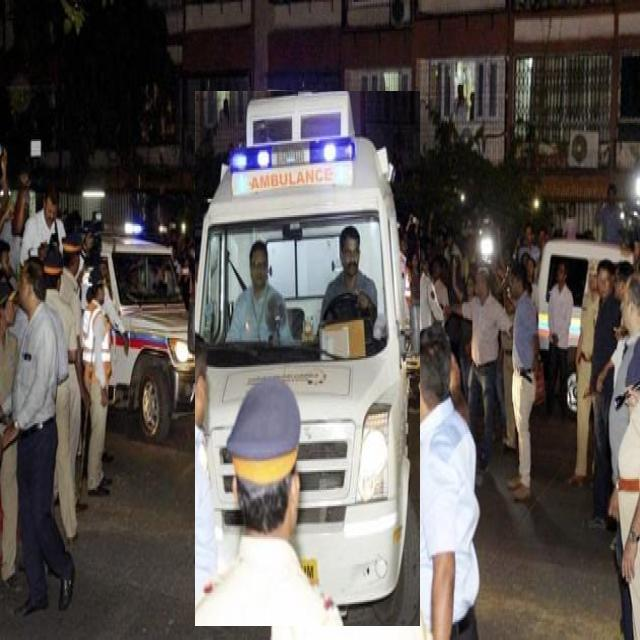car: (101, 236, 207, 439)
emergency: (195, 91, 420, 626)
